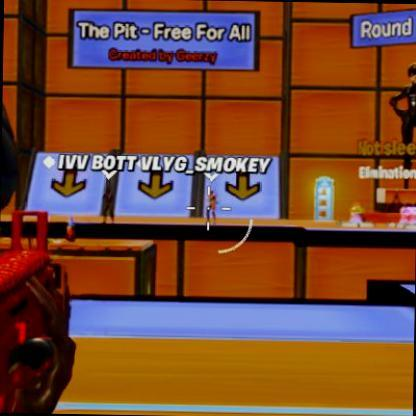person: (202, 185, 220, 216), (101, 190, 115, 222)
